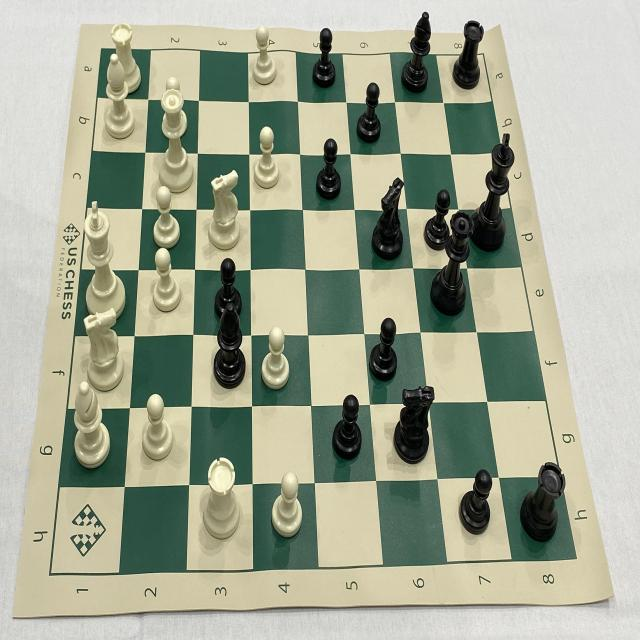black-bishop: (208, 300, 250, 392), (400, 5, 433, 96)
black-king: (471, 130, 517, 252)
black-knight: (392, 380, 435, 466), (369, 174, 406, 265)
black-pawn: (453, 466, 493, 538), (364, 313, 401, 386), (332, 389, 364, 463), (309, 25, 340, 92), (315, 134, 344, 204), (212, 256, 242, 323), (423, 187, 451, 256), (356, 80, 382, 148)
black-queen: (429, 212, 473, 327)
black-rook: (516, 458, 566, 544), (451, 16, 487, 92)
white-bishop: (70, 381, 113, 469), (101, 53, 137, 142)
white-king: (80, 199, 127, 321)
white-knight: (80, 307, 128, 393), (207, 169, 243, 253)
white-pawn: (266, 470, 304, 544), (140, 392, 176, 464), (149, 243, 183, 315), (252, 122, 283, 192), (261, 322, 291, 393), (152, 184, 183, 252), (248, 22, 278, 88), (160, 75, 190, 138)
white-queen: (154, 88, 197, 196)
white-rook: (200, 453, 242, 544), (110, 20, 142, 95)
